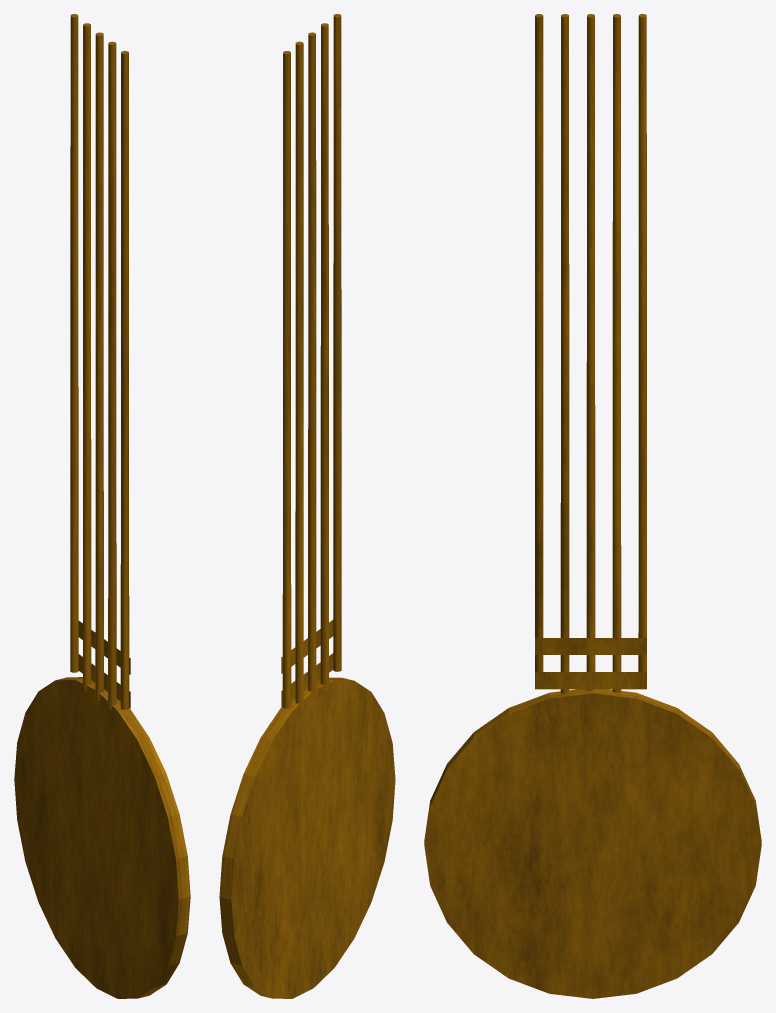
File: pendulum_central.fbx
3 renders of one model, left to right at view 1: azimuth 30°, elevation 25°; view 2: azimuth 150°, elevation 25°; view 3: azimuth 270°, elevation 25°, orthographic. The views are drawn at different scales.
Visible parts, largest first — view 1: pendulum_central_Baked; view 2: pendulum_central_Baked; view 3: pendulum_central_Baked.
Part boxes in pixels (x1,y1,x2,y2): pendulum_central_Baked: [14, 14, 190, 998]; pendulum_central_Baked: [219, 14, 395, 998]; pendulum_central_Baked: [424, 14, 761, 998].
Bounding box in the file's own units: 1.29 × 87.86 × 27.44.
1 material, 1 textured.
